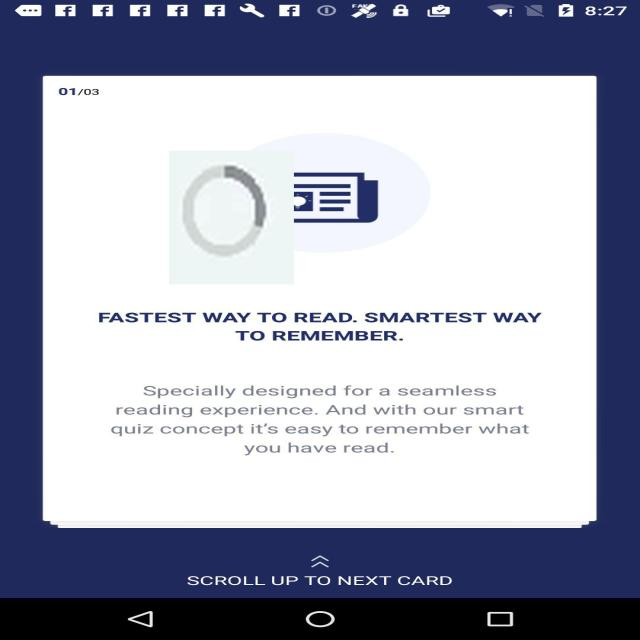misdirection: (169, 151, 294, 284)
